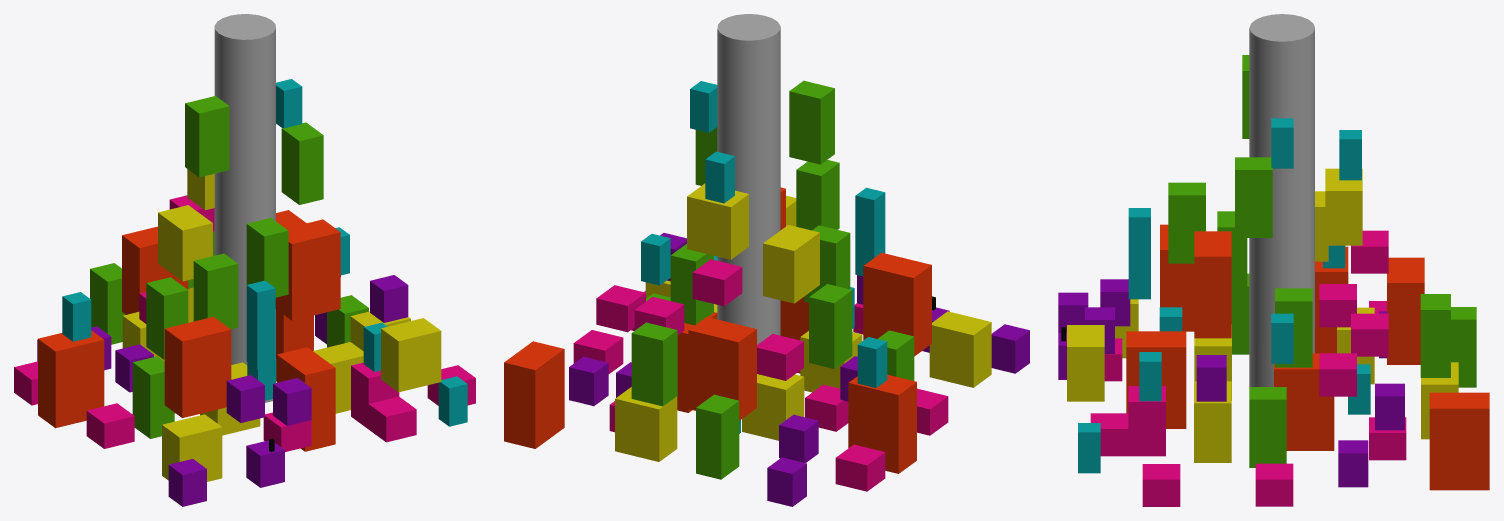
The model's file is Level Layout.fbx.
3 views of the same model, side by side, from view 1: azimuth 30°, elevation 25°; view 2: azimuth 150°, elevation 25°; view 3: azimuth 270°, elevation 25° (orthographic). The views are drawn at different scales.
Visible parts, largest first — view 1: pCylinder1, pCube10, pCube24, pCube17, pCube58, pCube25, pCube76, pCube72, pCube71, pCube5, pCube16, pCube20 (+30 smaller); view 2: pCylinder1, pCube45, pCube37, pCube10, pCube24, pCube5, pCube72, pCube66, pCube32, pCube31, pCube76, pCube36 (+28 smaller); view 3: pCylinder1, pCube45, pCube17, pCube44, pCube37, pCube25, pCube71, pCube57, pCube58, pCube20, pCube66, pCube31 (+39 smaller).
Part boxes in pixels (<box>): pCylinder1: <box>214,14,275,365</box>; pCube10: <box>164,317,231,417</box>; pCube24: <box>38,330,104,428</box>; pCube17: <box>275,219,340,320</box>; pCube58: <box>381,318,441,392</box>; pCube25: <box>277,347,335,451</box>; pCube76: <box>185,96,229,177</box>; pCube72: <box>158,205,212,281</box>; pCube71: <box>281,122,323,204</box>; pCube5: <box>162,414,222,481</box>; pCube16: <box>193,253,238,329</box>; pCube20: <box>246,218,288,297</box>; pCylinder1: <box>717,14,780,344</box>; pCube45: <box>504,341,564,448</box>; pCube37: <box>688,317,756,420</box>; pCube10: <box>863,252,931,356</box>; pCube24: <box>848,374,916,473</box>; pCube5: <box>929,311,991,387</box>; pCube72: <box>763,225,819,303</box>; pCube66: <box>687,183,748,259</box>; pCube32: <box>615,387,677,461</box>; pCube31: <box>631,322,677,406</box>; pCube76: <box>789,80,834,164</box>; pCube36: <box>696,394,739,479</box>; pCylinder1: <box>1249,14,1314,386</box>; pCube45: <box>1429,392,1489,490</box>; pCube17: <box>1194,231,1231,338</box>; pCube44: <box>1274,353,1334,450</box>; pCube37: <box>1387,257,1424,364</box>; pCube25: <box>1126,331,1186,428</box>; pCube71: <box>1235,157,1272,237</box>; pCube57: <box>1249,387,1286,467</box>; pCube58: <box>1067,325,1104,401</box>; pCube20: <box>1168,182,1205,263</box>; pCube66: <box>1325,168,1362,245</box>; pCube31: <box>1420,294,1450,377</box>.
Size of the model in its own units: 5593 by 5864 by 5741.
